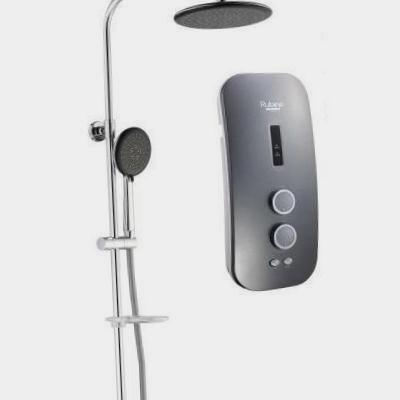Ducha: (59, 0, 327, 399)
